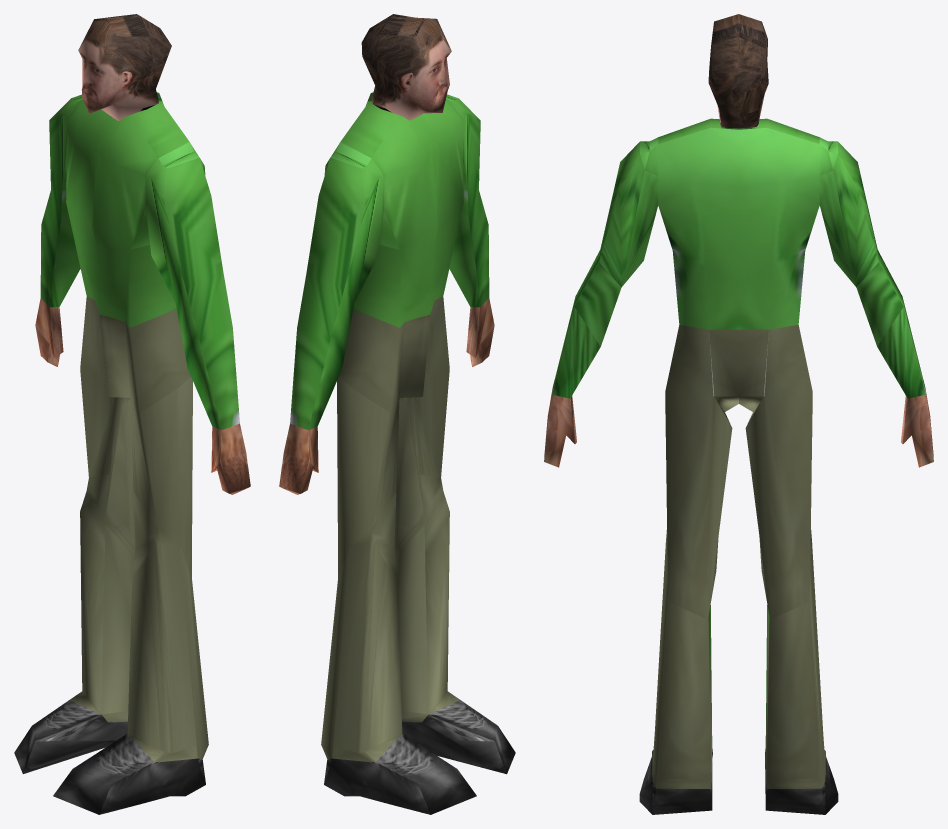
File: man9.fbx
3 views of the same model, side by side, from view 1: azimuth 30°, elevation 25°; view 2: azimuth 150°, elevation 25°; view 3: azimuth 270°, elevation 25° (orthographic). The views are drawn at different scales.
Parts seen in each view (by area): view 1: man9; view 2: man9; view 3: man9.
Part boxes in pixels (left/top/right/bottom): man9: left=14, top=14, right=250, bottom=814; man9: left=279, top=14, right=515, bottom=814; man9: left=544, top=14, right=933, bottom=814.
Size of the model in its own units: 34.73 by 186 by 84.77.
Materials: 2 (2 with a texture image).
